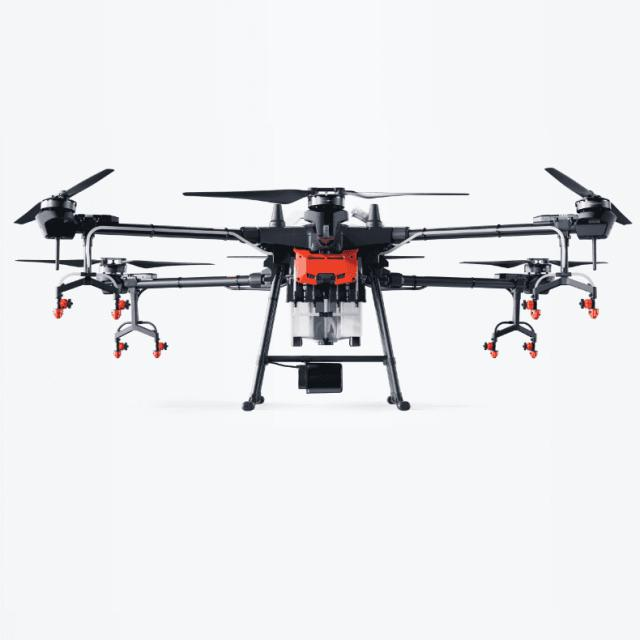drone: (0, 146, 640, 396)
